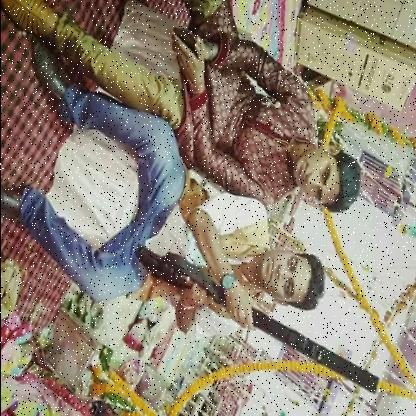rifle: (132, 242, 380, 396)
